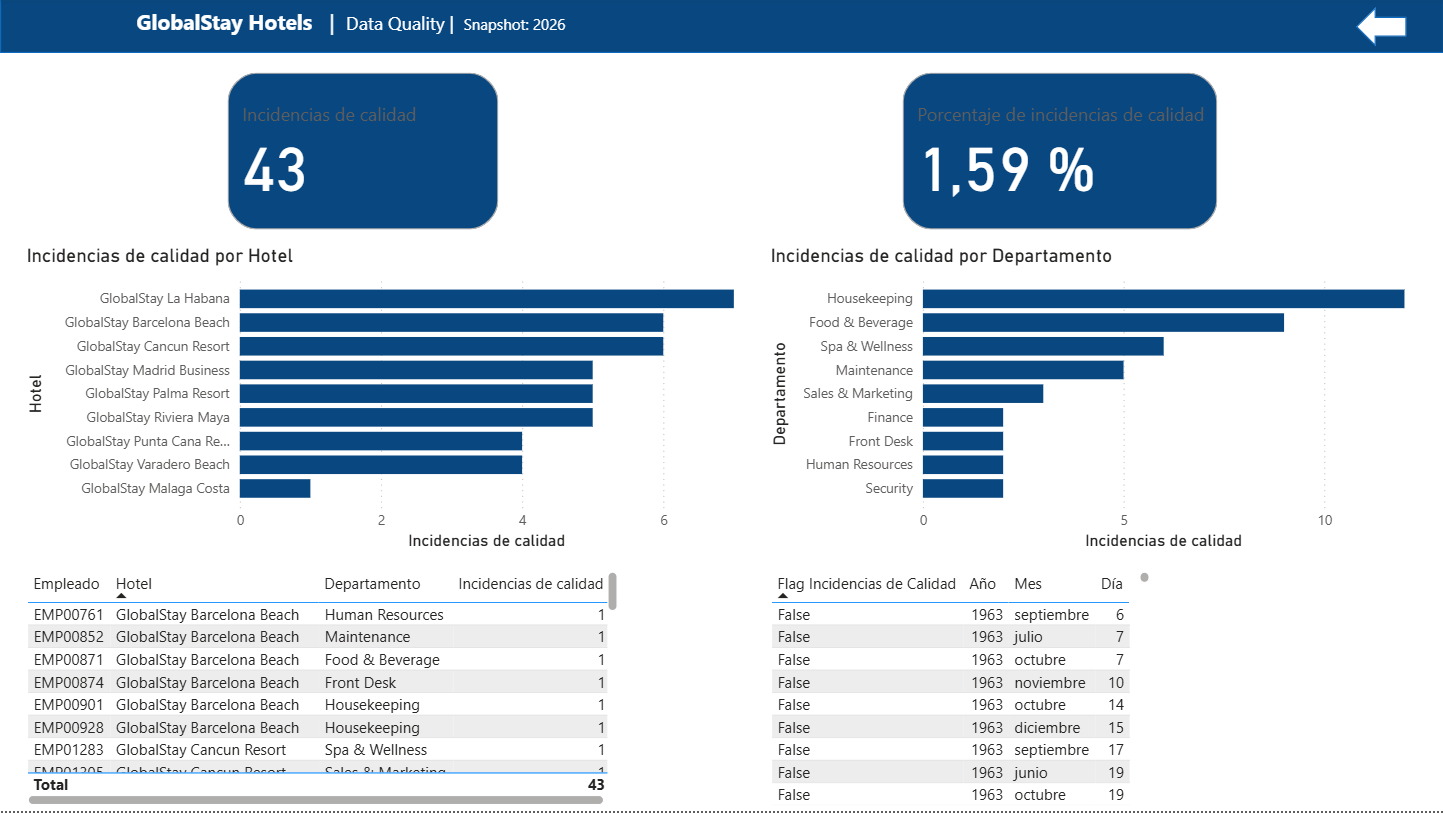

What the dashboard file says about the page in this screenshot:
{"tool":"powerbi","page":{"name":"Data Quality","canvas":[1280,720],"ordinal":3},"visuals":[{"type":"shape","box":[0,0,1280.4,47.9],"z":0},{"type":"textbox","box":[99.3,2.7,427.4,45.2],"z":1000},{"type":"cardVisual","fields":{"Data":["Medidas.Quality Issues"]},"box":[196.8,60.3,250,149.9],"z":2000},{"type":"cardVisual","fields":{"Data":["Medidas.Quality Issue Percentage"]},"box":[795.4,60.3,290,149.9],"z":3000},{"type":"barChart","fields":{"Category":["vw_employee_snapshot.hotel_name"],"Y":["Medidas.Quality Issues"]},"box":[18.6,217.2,641.1,275.8],"z":4000},{"type":"barChart","fields":{"Category":["vw_employee_snapshot.department_name"],"Y":["Medidas.Quality Issues"]},"box":[678.3,217.2,579,275.8],"z":5000},{"type":"tableEx","fields":{"Values":["vw_employee_snapshot.employee_id","vw_employee_snapshot.hotel_name","vw_employee_snapshot.department_name","Medidas.Quality Issues"]},"box":[18.6,502.8,533.8,217.2],"z":6000},{"type":"tableEx","fields":{"Values":["vw_employee_snapshot.quality_issue_flag","vw_employee_snapshot.birth_date.Variación.Jerarquía de fechas.Año","vw_employee_snapshot.birth_date.Variación.Jerarquía de fechas.Mes","vw_employee_snapshot.birth_date.Variación.Jerarquía de fechas.Día"]},"box":[678.3,502.8,345.8,217.2],"z":7000},{"type":"shape","box":[1202.2,6.8,44.7,35],"z":7001}]}

Visuals, with their boxes in screenshot pixels (x1, y1, x2, y2), scaled from the page's 1280x720 canvas onto the 1443x813 screenshot:
shape: [0,0,1442,54]
textbox: [112,3,594,54]
cardVisual - Medidas.Quality Issues: [222,68,504,237]
cardVisual - Medidas.Quality Issue Percentage: [897,68,1224,237]
barChart - vw_employee_snapshot.hotel_name x Medidas.Quality Issues: [21,245,744,557]
barChart - vw_employee_snapshot.department_name x Medidas.Quality Issues: [765,245,1417,557]
tableEx - vw_employee_snapshot.employee_id x vw_employee_snapshot.hotel_name: [21,568,623,812]
tableEx - vw_employee_snapshot.quality_issue_flag x vw_employee_snapshot.birth_date.Variación.Jerarquía de fechas.Año: [765,568,1155,812]
shape: [1355,8,1406,47]
